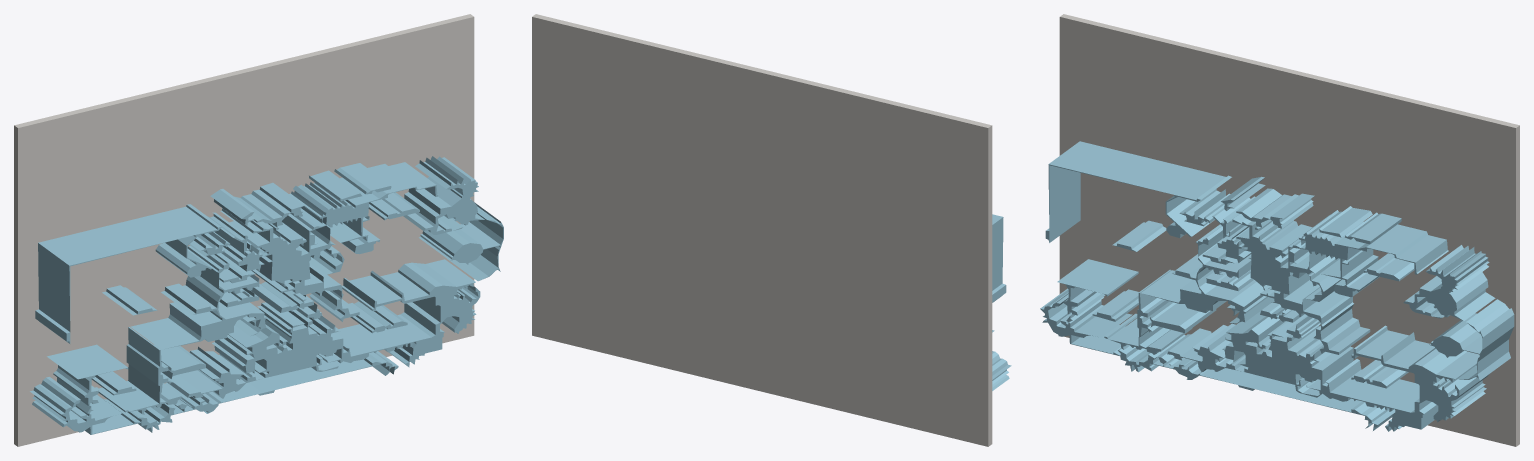
3 views of the same model, side by side, from view 1: azimuth 30°, elevation 25°; view 2: azimuth 150°, elevation 25°; view 3: azimuth 330°, elevation 25° (orthographic).
Parts seen in each view (by area): view 1: world; view 2: world; view 3: world.
Boxes of the visible parts, <box> form: world: <box>14,14,503,446</box>; world: <box>532,14,1011,446</box>; world: <box>1040,14,1519,446</box>.
Bounding box in the file's own units: 10.23 × 6.83 × 1.37.
